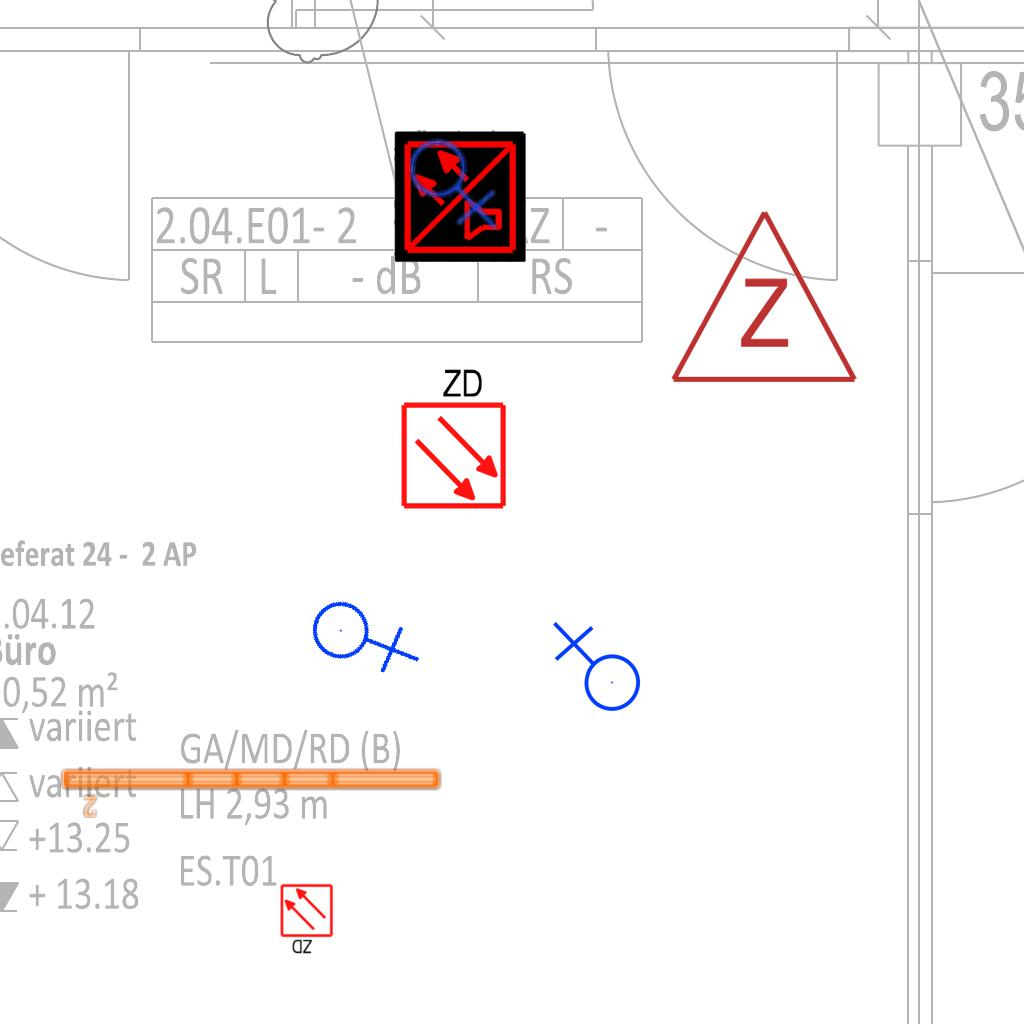Ambulanz_Pendelleuchte_LED: (58, 764, 445, 820)
Elektroanschluss_allgemein_230V_Geraeteanschlussdose_230V: (297, 569, 426, 699), (548, 621, 642, 720), (408, 131, 502, 230)
OKW_Multisensormelder_(Kombination_optischer_Rauch-Kahlenmonoxid_Waerme-Melder): (394, 130, 526, 262)
ZD_Melder_in_Zwischendecke_mit_Revisionsoeffnung_mind_40_x_40_cm: (395, 362, 509, 511), (279, 883, 336, 957)
Zimmersignalleuchte: (664, 197, 860, 397)
